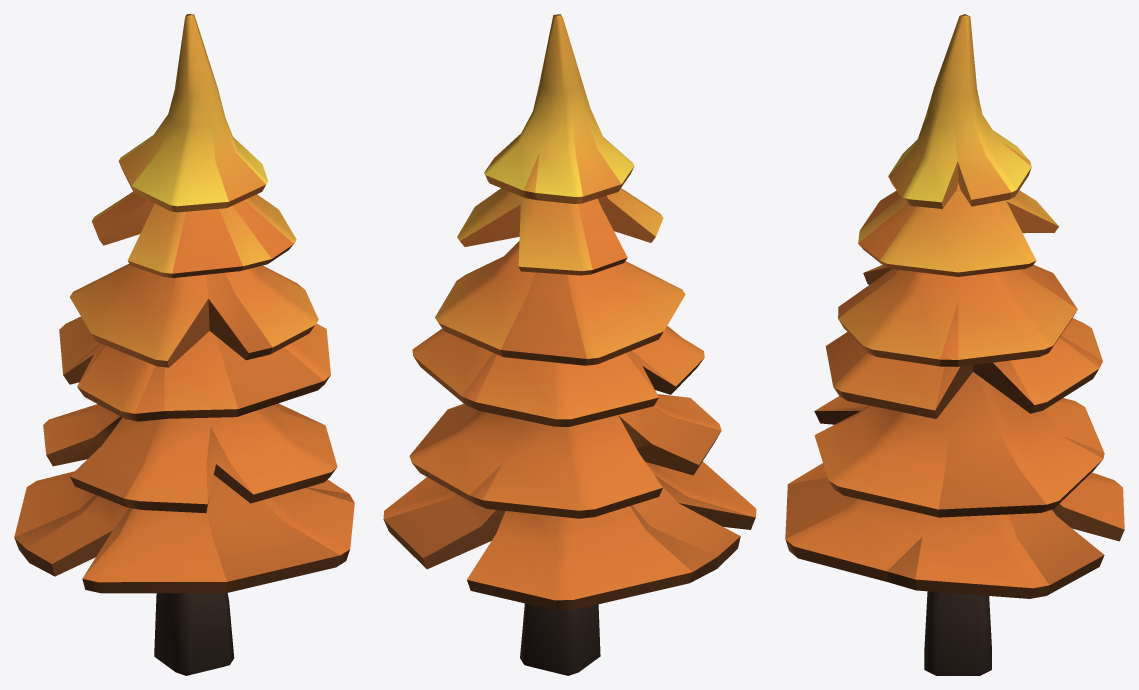
The model's file is pine_tree_col2_07.fbx.
3 views of the same model, side by side, from view 1: azimuth 30°, elevation 25°; view 2: azimuth 150°, elevation 25°; view 3: azimuth 270°, elevation 25° (orthographic).
Visible parts, largest first — view 1: pine_tree_col2_07; view 2: pine_tree_col2_07; view 3: pine_tree_col2_07.
Part boxes in pixels (x1=…): pine_tree_col2_07: x1=14, y1=14, x2=354, y2=675; pine_tree_col2_07: x1=383, y1=14, x2=756, y2=675; pine_tree_col2_07: x1=785, y1=14, x2=1124, y2=675.
Bounding box in the file's own units: 492 × 1012 × 479.
1 material, 1 textured.
